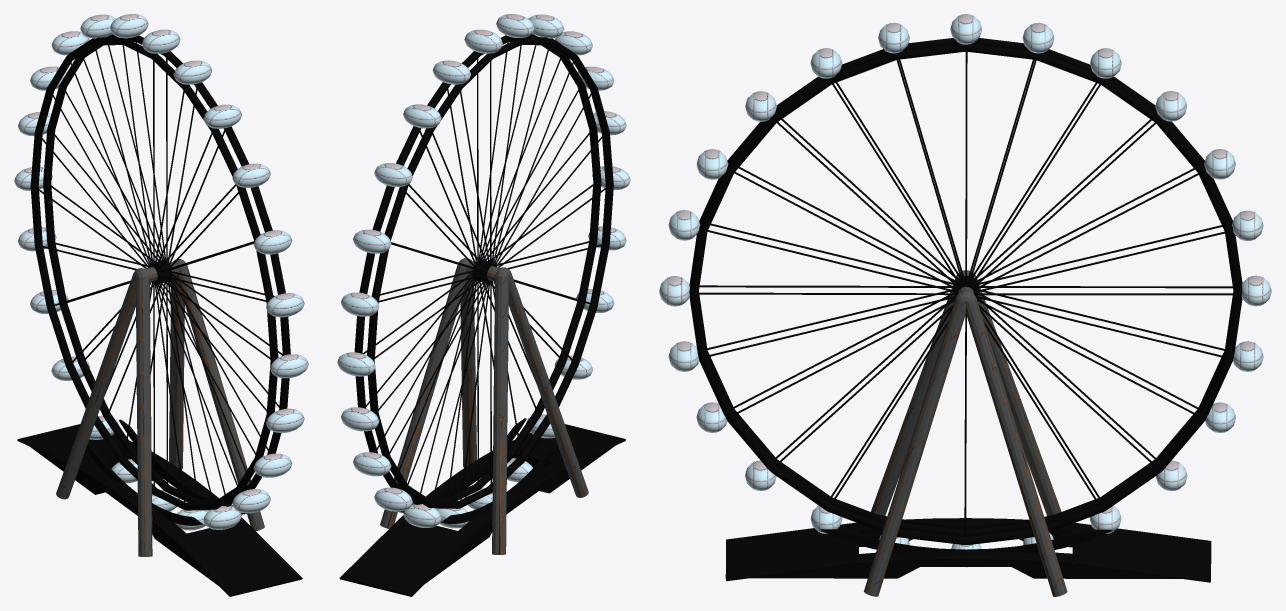
The model's file is GiantWheel.fbx.
3 renders of one model, left to right at view 1: azimuth 30°, elevation 25°; view 2: azimuth 150°, elevation 25°; view 3: azimuth 270°, elevation 25°, orthographic. The views are drawn at different scales.
Parts seen in each view (by area): view 1: WheelRing, Stand, WheelCabine; view 2: WheelRing, Stand, WheelCabine; view 3: WheelRing, Stand, WheelCabine.
Part boxes in pixels (x1,y1,x2,y2): WheelRing: [30, 34, 290, 510]; Stand: [17, 259, 302, 596]; WheelCabine: [14, 14, 308, 530]; WheelRing: [354, 34, 613, 508]; Stand: [339, 258, 625, 596]; WheelCabine: [337, 14, 630, 528]; WheelRing: [689, 38, 1242, 544]; Stand: [725, 270, 1211, 596]; WheelCabine: [659, 14, 1271, 567].
Size of the model in its own units: 27.39 by 101 by 102.
